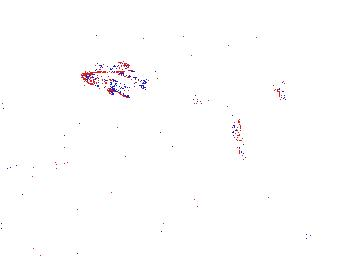glassfish: (195, 76, 248, 154)
red belly glassfish: (91, 61, 131, 71)
redtail glassfish: (217, 38, 287, 101), (80, 70, 160, 96)
